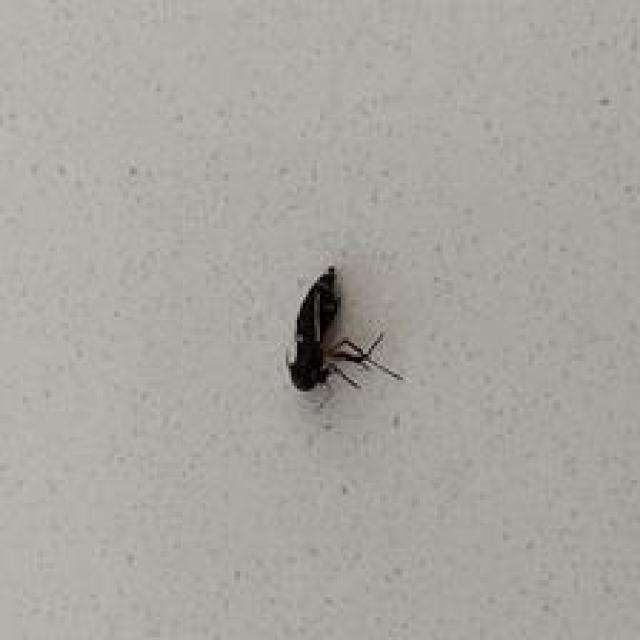Aedes albopictus: (284, 264, 404, 396)
